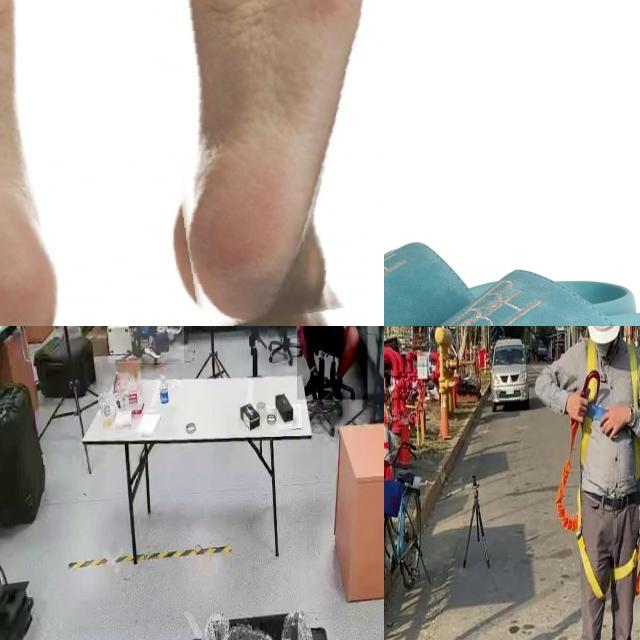Barefoots: (131, 0, 384, 326), (0, 0, 80, 326)
Harness: (556, 335, 604, 598), (613, 537, 640, 596)
Sandals: (384, 215, 640, 326)
person: (297, 326, 368, 400), (108, 326, 184, 363)
shoes: (143, 335, 161, 361), (164, 326, 182, 336)
